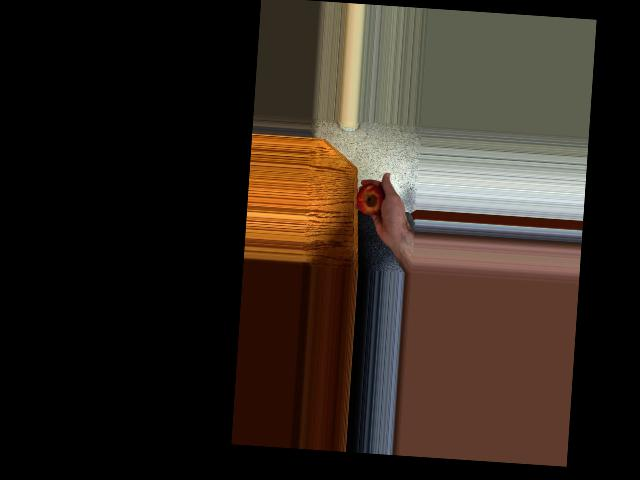apple: (354, 182, 388, 221)
